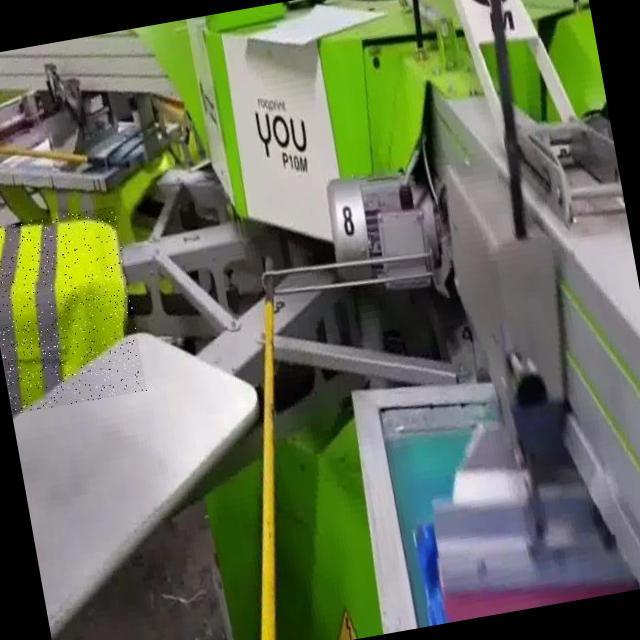Safety Vest: (0, 205, 147, 414)
